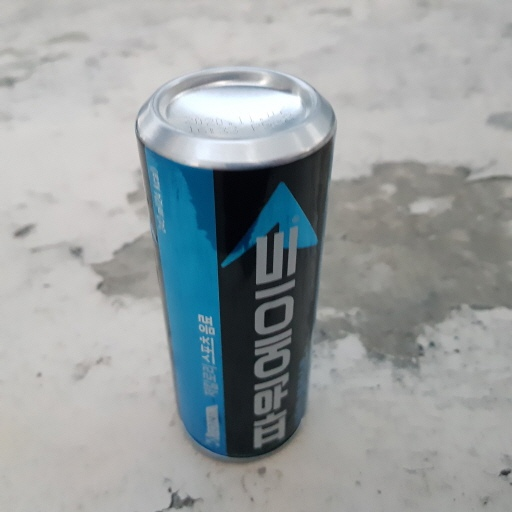Metal_0: (130, 65, 341, 466)
